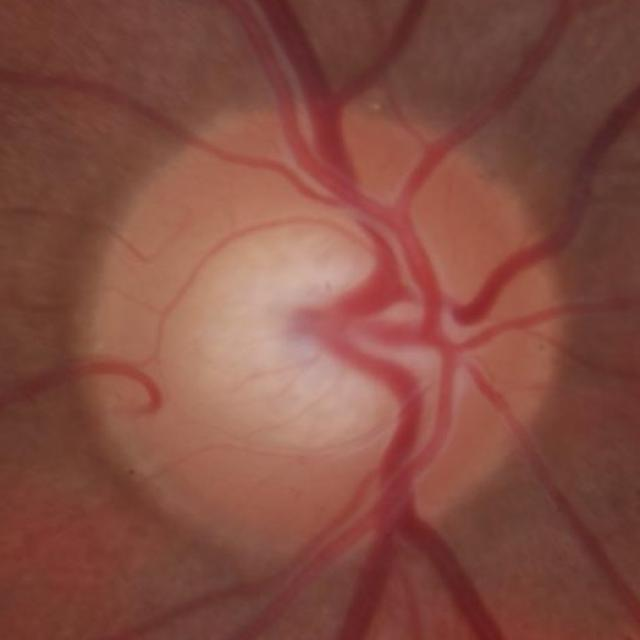OC: (192, 225, 455, 454)
OD: (81, 112, 564, 560)
